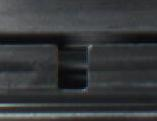oneu: (49, 40, 100, 100)
